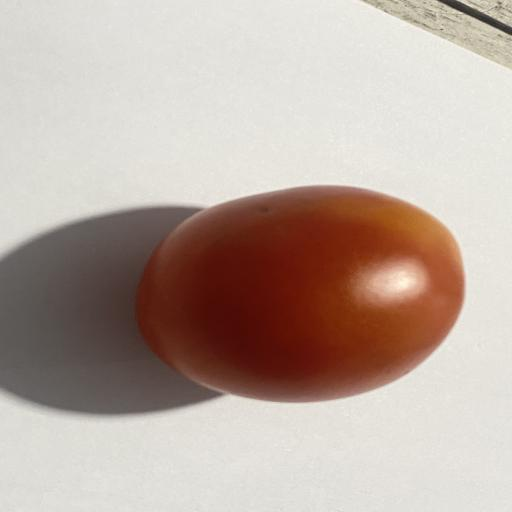ripe: (137, 186, 464, 402)
